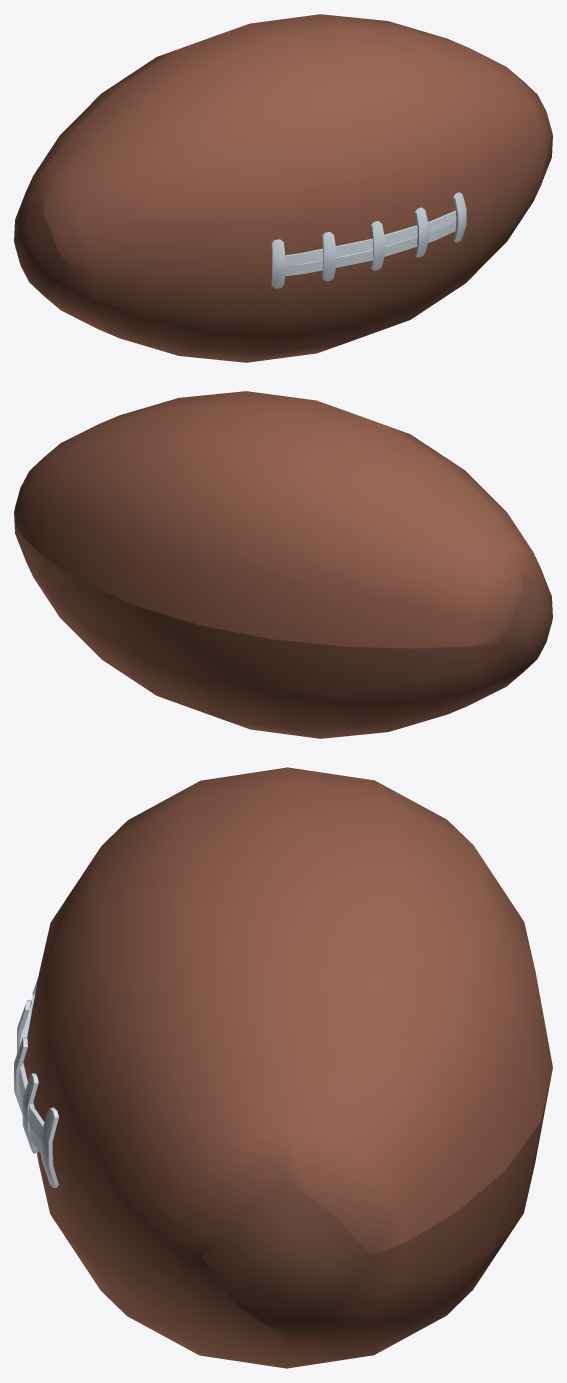
Rendered from PP_Ball3.fbx.
The picture shows the model from 3 angles, top to bottom: view 1: azimuth 30°, elevation 25°; view 2: azimuth 150°, elevation 25°; view 3: azimuth 270°, elevation 25°; orthographic projection. The views are drawn at different scales.
Visible parts, largest first — view 1: ball_3; view 2: ball_3; view 3: ball_3.
Part boxes in pixels (x1,y1,x2,y2): ball_3: [14, 14, 552, 362]; ball_3: [14, 391, 552, 738]; ball_3: [14, 767, 552, 1368].
Bounding box in the file's own units: 29.6 × 16.46 × 16.69.
